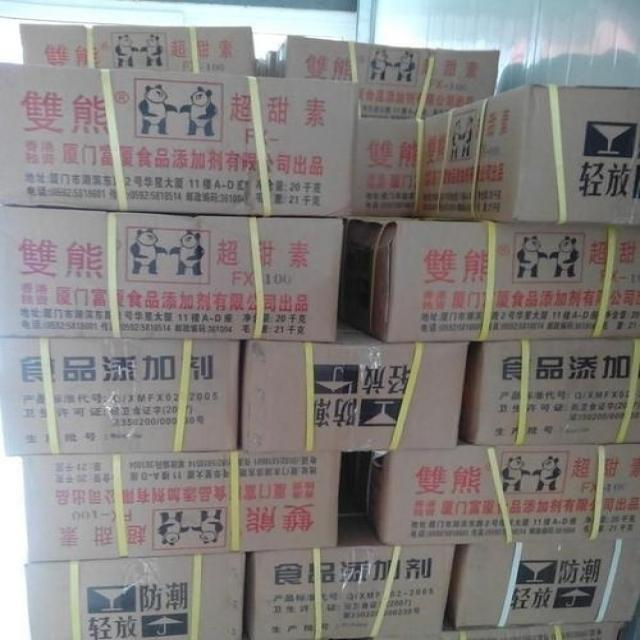box: (0, 63, 358, 218), (0, 205, 344, 342), (340, 215, 639, 342), (23, 452, 342, 562), (420, 84, 640, 227), (241, 319, 470, 452), (355, 441, 640, 545), (0, 337, 241, 457), (244, 513, 454, 639), (256, 34, 502, 118), (26, 552, 247, 640), (461, 337, 639, 444), (445, 539, 639, 631), (19, 24, 256, 76), (349, 116, 424, 216), (384, 613, 626, 640)
